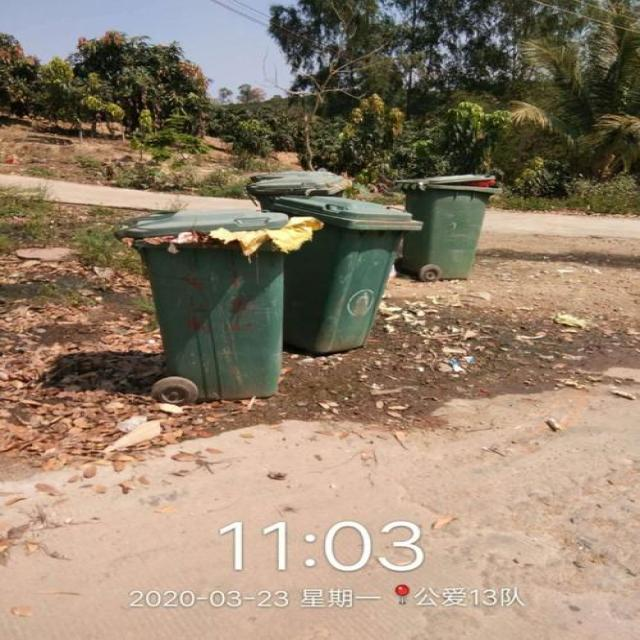garbage_bin: (272, 196, 422, 353)
overflow: (113, 207, 320, 399), (396, 173, 496, 279)
